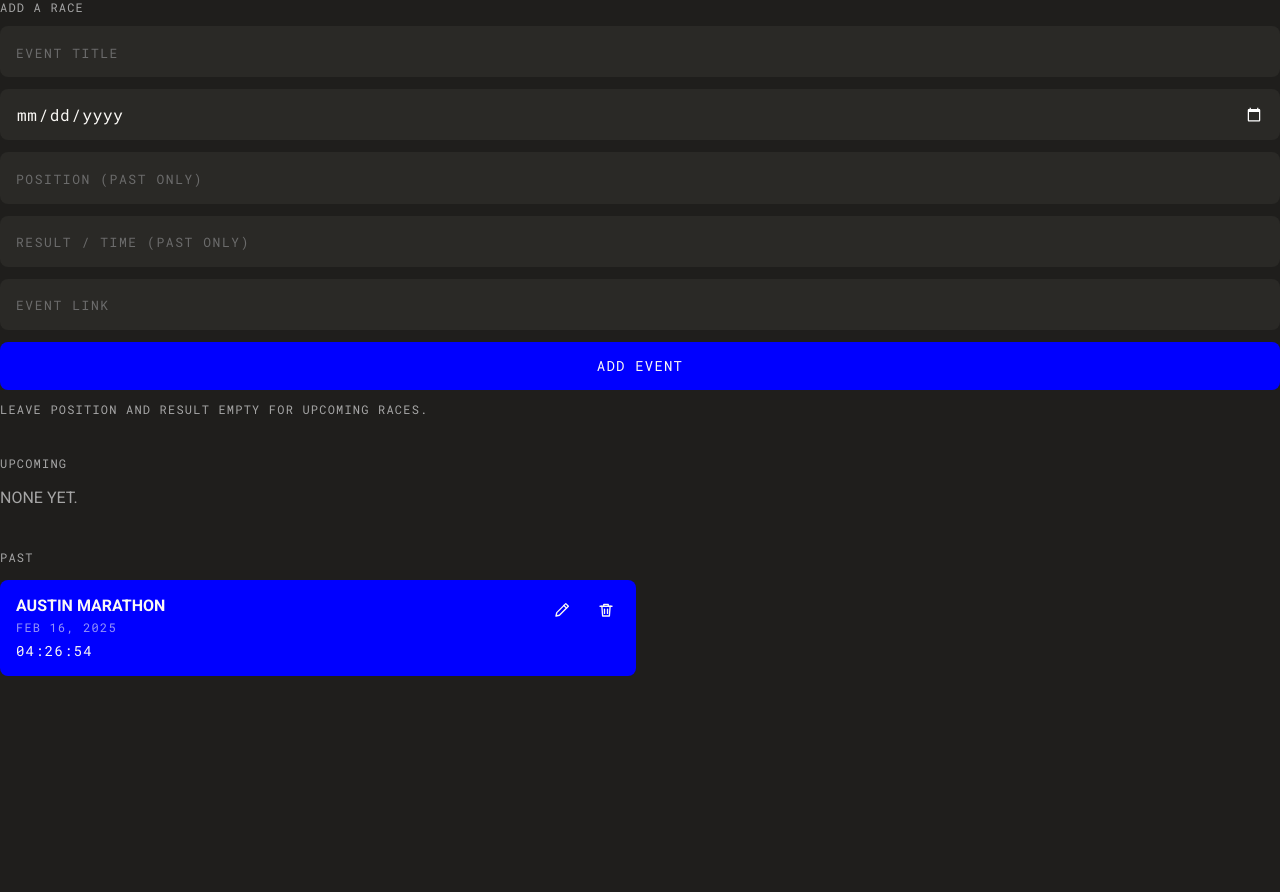
Test case: EventManager › disables position and result when editing a race to a future date
Click the button named "edit".
click(562, 610)  # box 540,588 -> 584,632
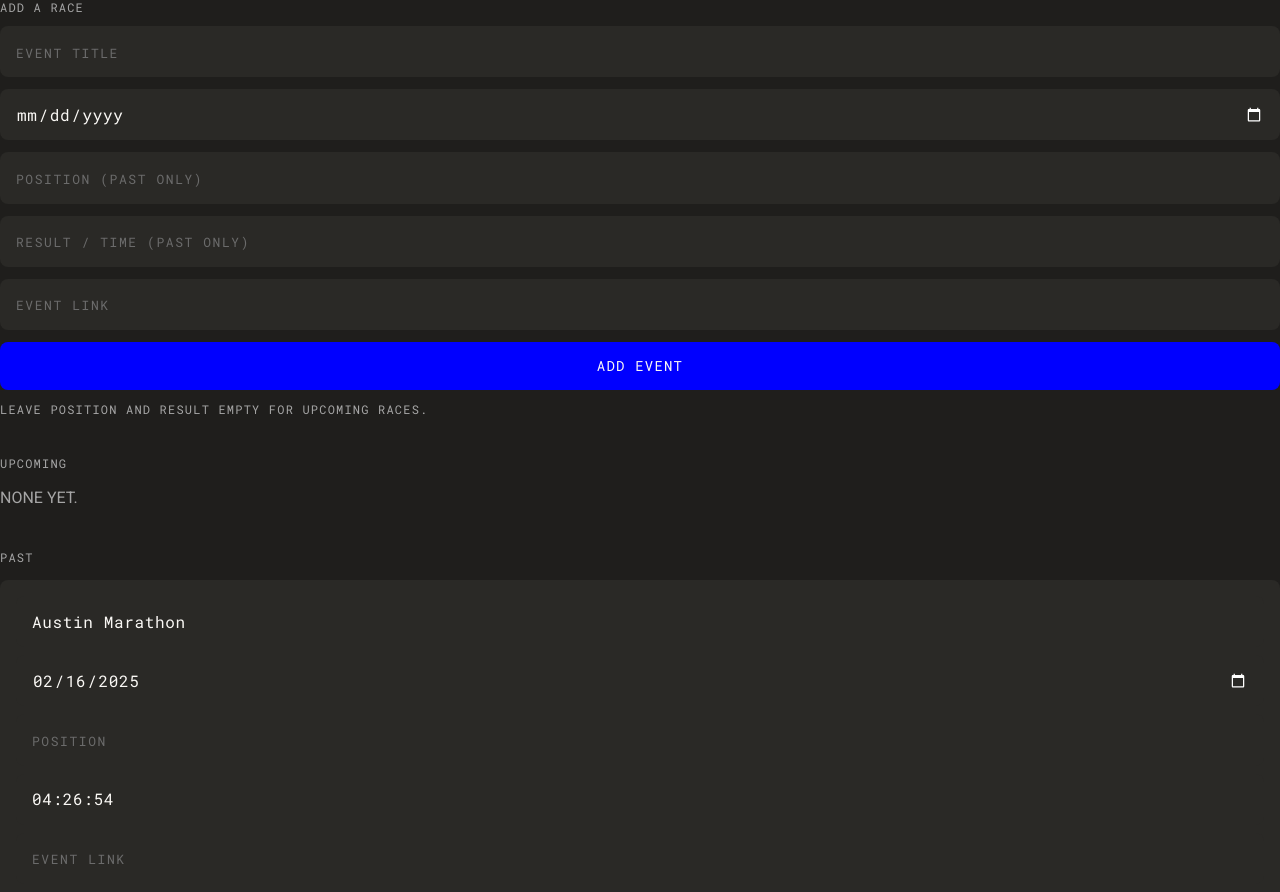
Result: the field with placeholder "Position" is enabled at 16,714 -> 1264,766
Type "2030-01-01" into the date field named "event_date" below "Past".
click(640, 681); type("2030-01-01")  # box 16,655 -> 1264,706
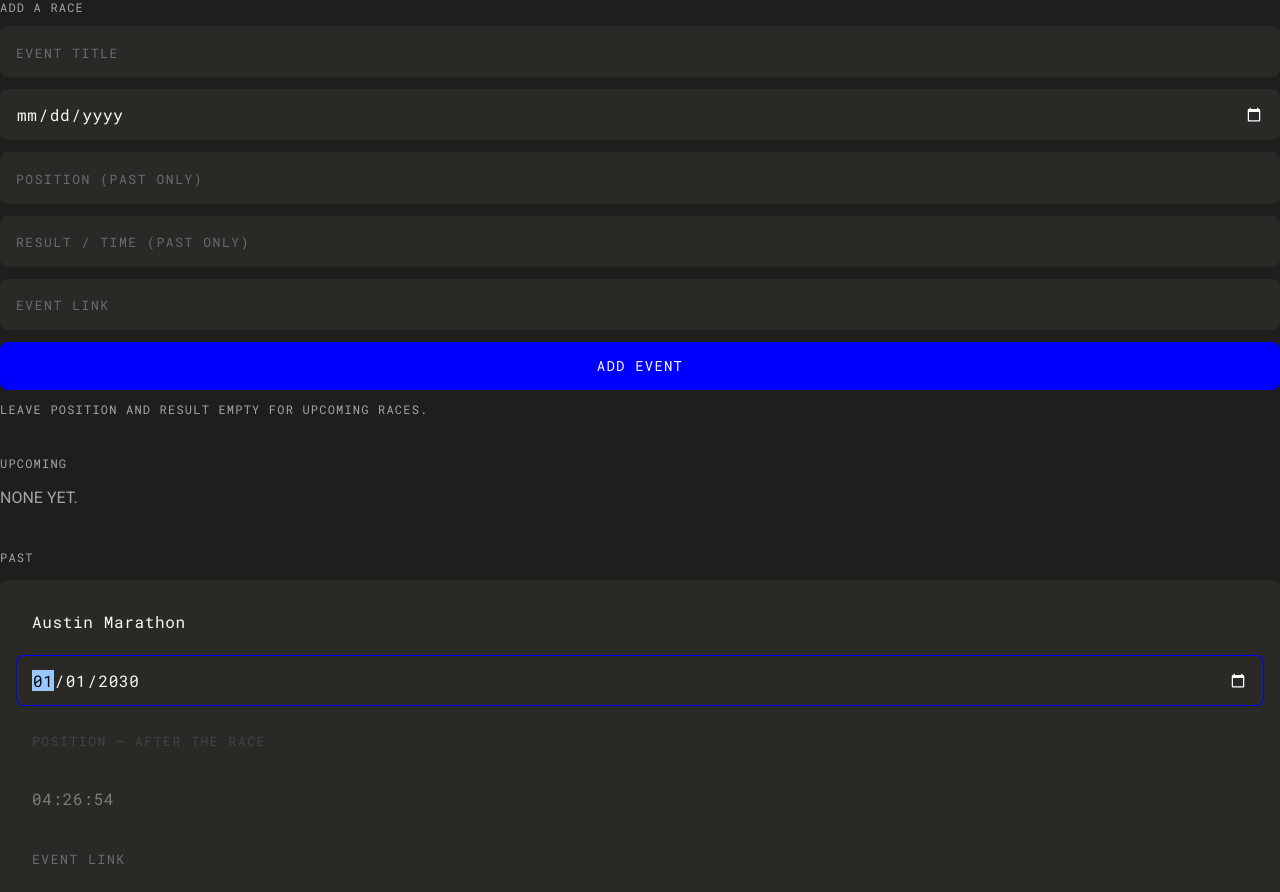
Result: the field named "position" is disabled at 16,714 -> 1264,766
